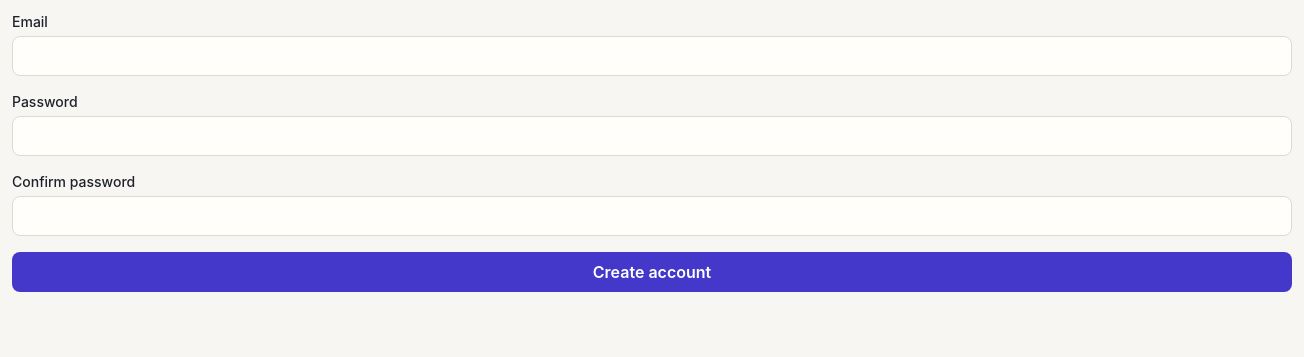
Scenario: SignupForm › validates password length and matching
Type "person@example.test" into the field labelled "Email" at (652, 56), box [12,36,1292,76]
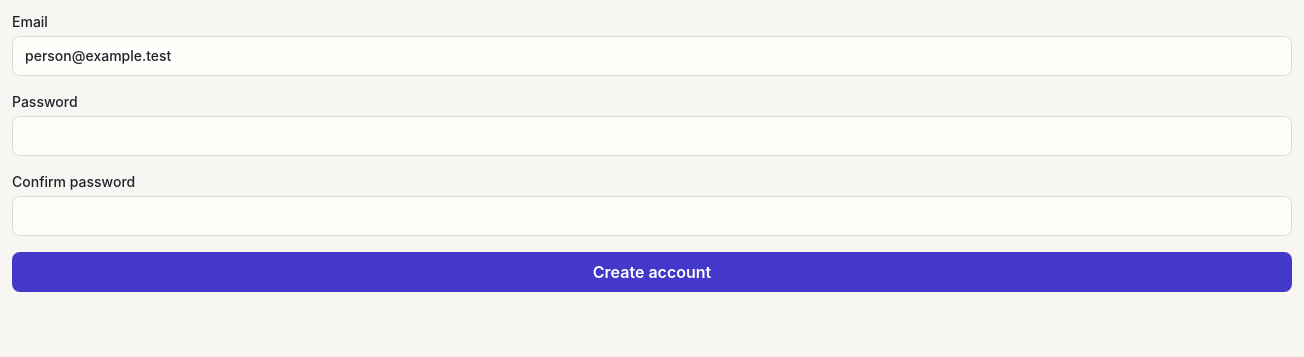
Type "short" into the password field labelled "Password" at (652, 136), box [12,116,1292,156]
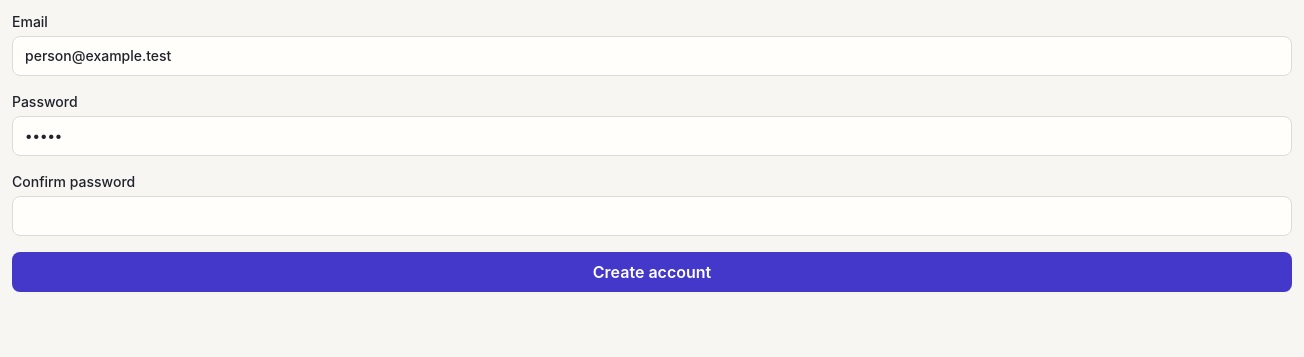
Type "different" into the password field labelled "Confirm password" at (652, 216), box [12,196,1292,236]
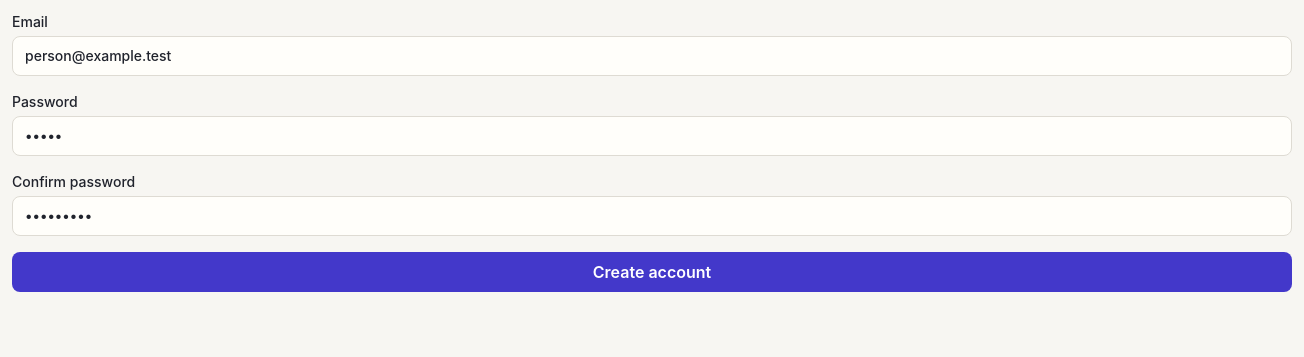
Click the button "Create account" at (652, 272), box [12,252,1292,292]
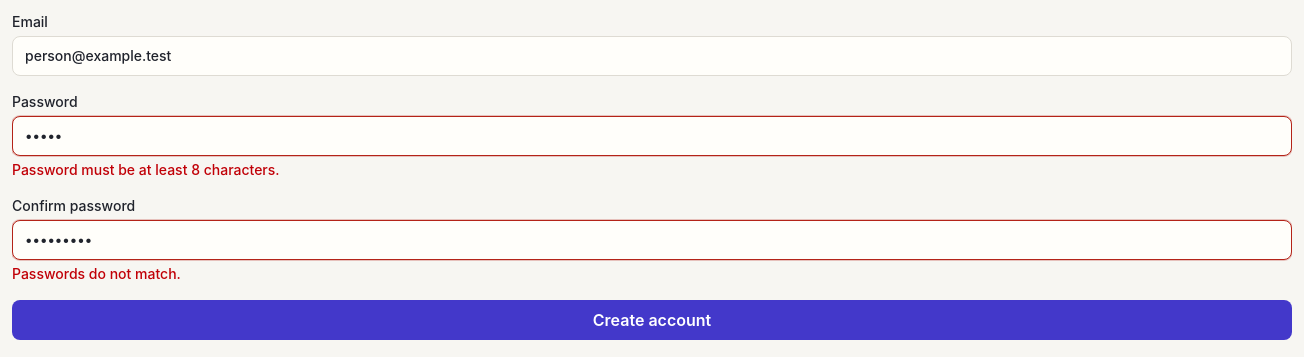
Expected: the text "Password must be at least 8 characters." is shown, [12,161,280,178]
Expected: the text "Passwords do not match." is shown, [12,265,181,282]
